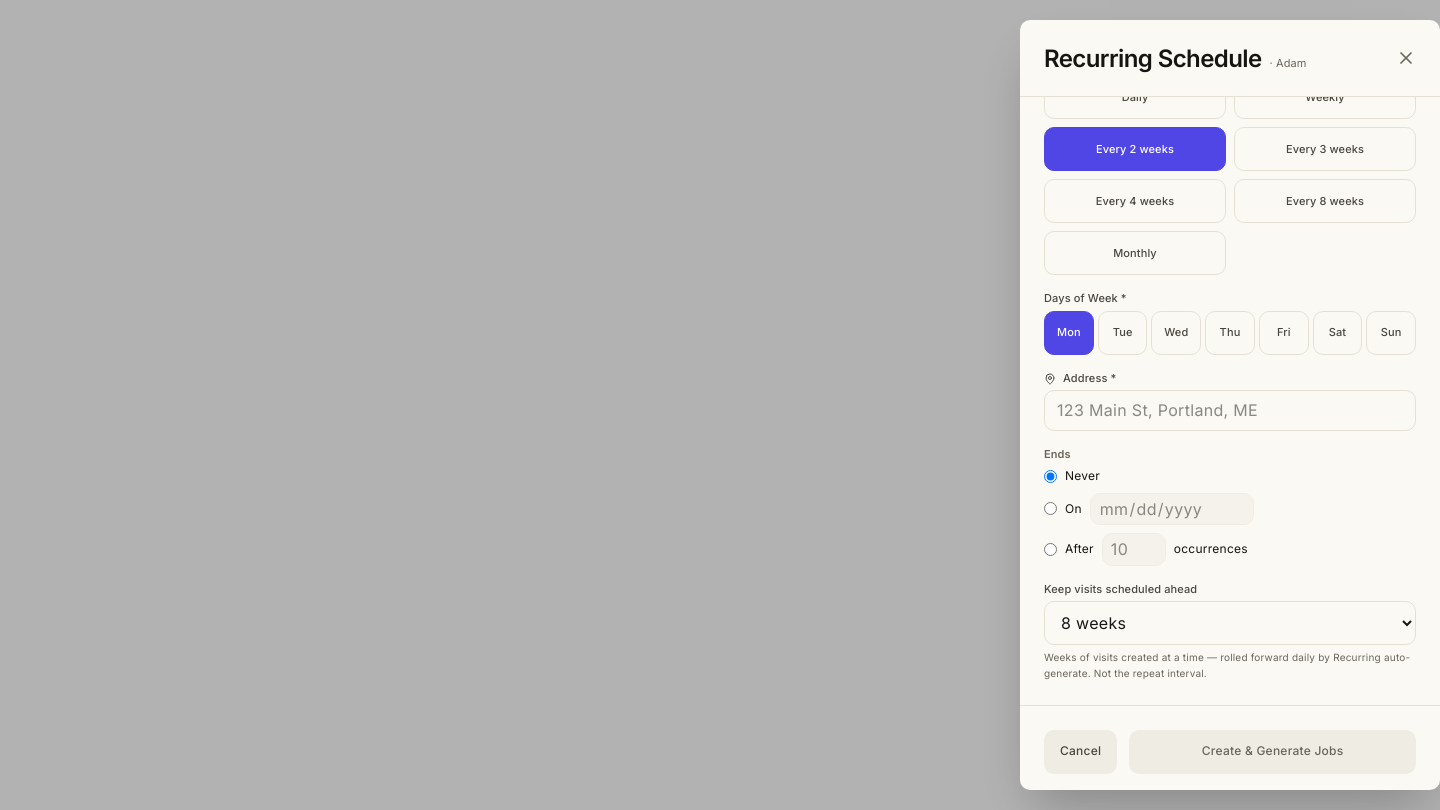
Test: recurring create that generates no visits › holds the modal open and explains instead of closing on a silent success
(page scrolled)
Type "9 Test Rd, Wells, ME" into the field with placeholder "123 Main St, Portland, ME". click: x=1230, y=410
box: [1044, 390, 1416, 431]
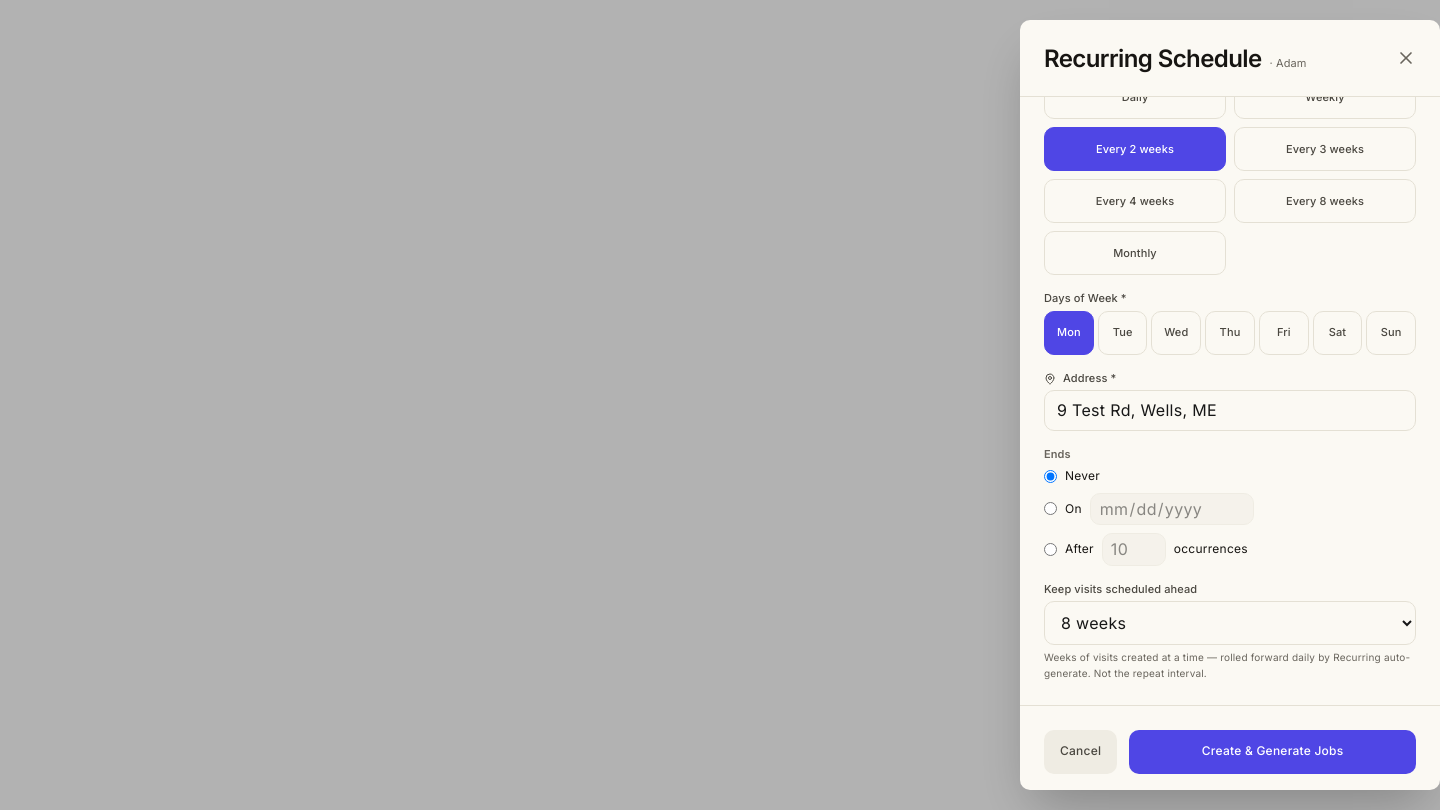
Click the button with test id "job-create-submit". click: x=1273, y=752
box: [1129, 730, 1416, 774]
(page scrolled)
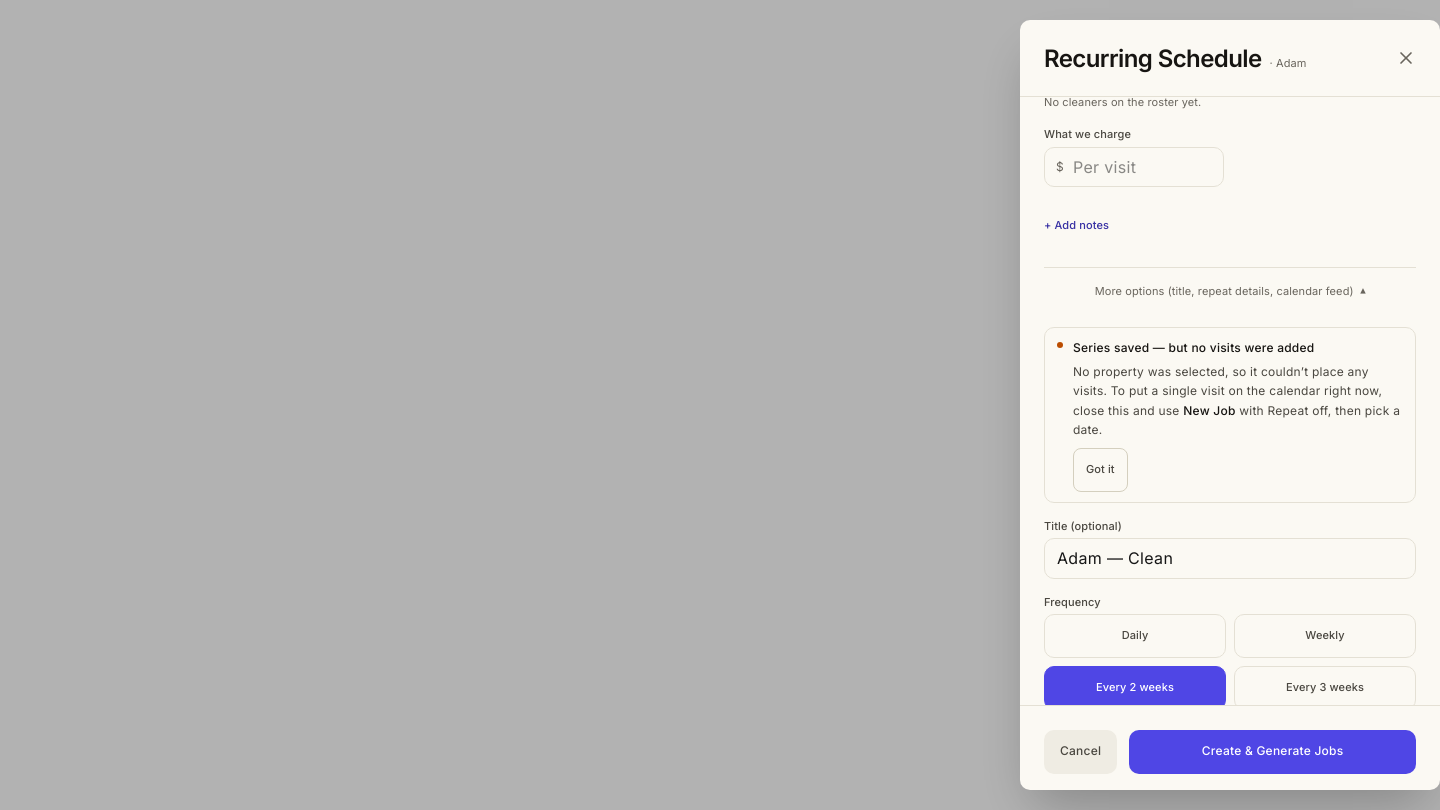
Expected: the text "Series saved — but no visits were added" is shown, [1073, 340, 1314, 355]
Expected: the text "No property was selected" is shown, [1073, 364, 1369, 398]
